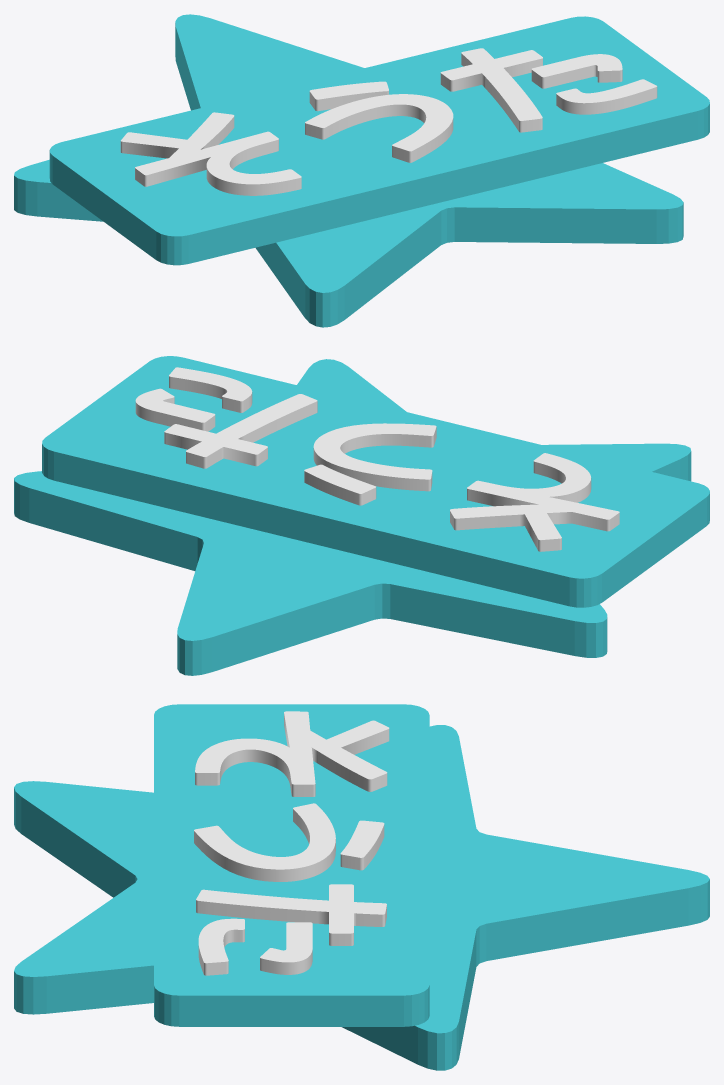
Rendered from ネームプレート.glb.
3 renders of one model, top to bottom at view 1: azimuth 30°, elevation 25°; view 2: azimuth 150°, elevation 25°; view 3: azimuth 270°, elevation 25°, orthographic. The views are drawn at different scales.
Visible parts, largest first — view 1: 平面, テキスト; view 2: 平面, テキスト; view 3: 平面, テキスト.
Part boxes in pixels (x1=…): 平面: x1=14, y1=14, x2=709, y2=327; テキスト: x1=120, y1=48, x2=657, y2=195; 平面: x1=14, y1=356, x2=709, y2=675; テキスト: x1=135, y1=367, x2=619, y2=551; 平面: x1=14, y1=704, x2=709, y2=1070; テキスト: x1=194, y1=711, x2=389, y2=975.
Size of the model in its own units: 2.12 by 0.26 by 2.02.
